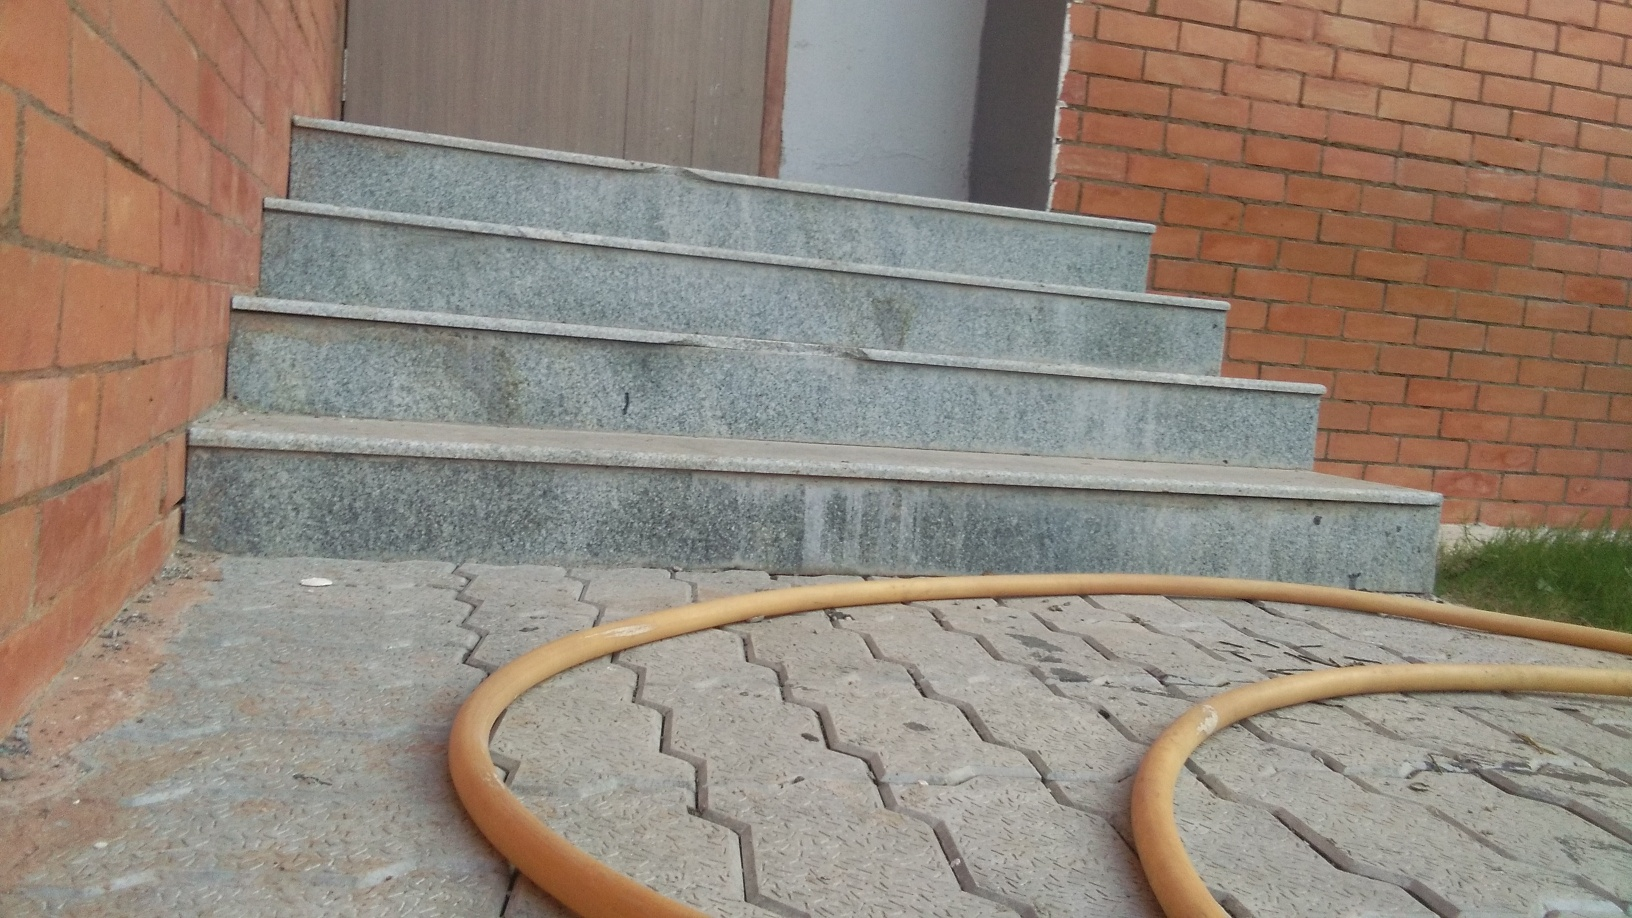stairs_up: (191, 110, 1454, 648)
